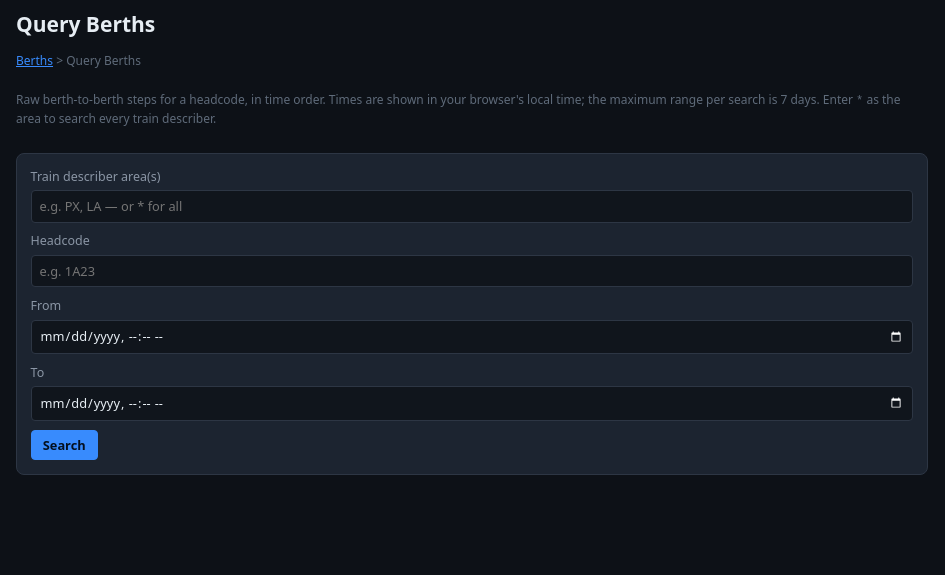
it: BerthQueryPage › searches with the entered comma-separated area(s) and headcode
Type "px, la" into the field labelled "Train describer area(s)" at (472, 207), box [31, 190, 913, 223]
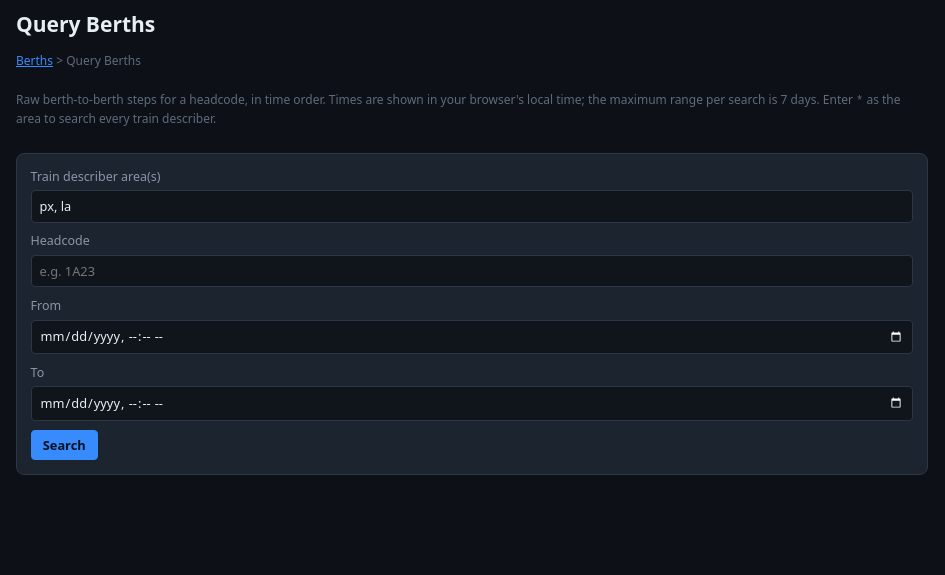
Type "1a23" into the field with placeholder "e.g. 1A23" at (472, 271), box [31, 255, 913, 288]
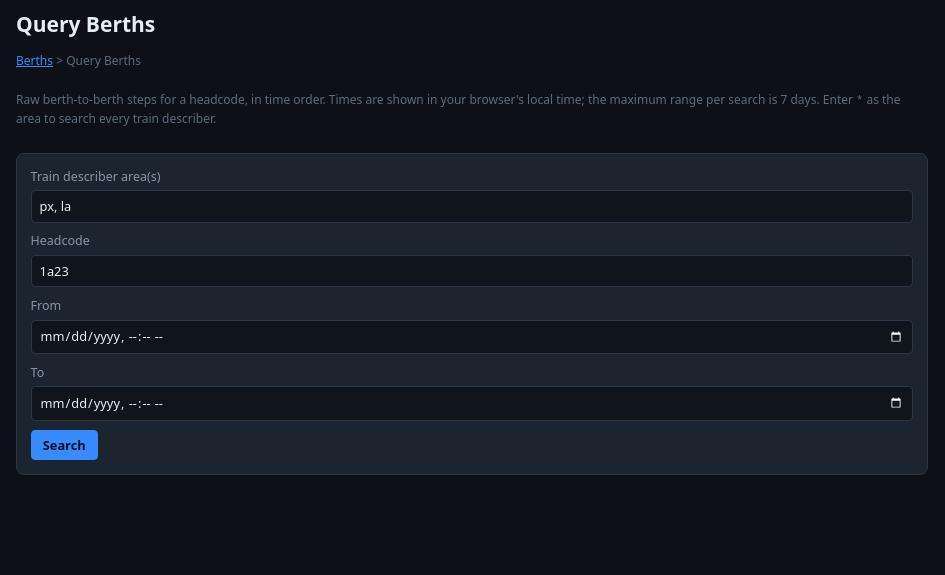
Click the button "Search" at (64, 445), box [31, 430, 98, 460]
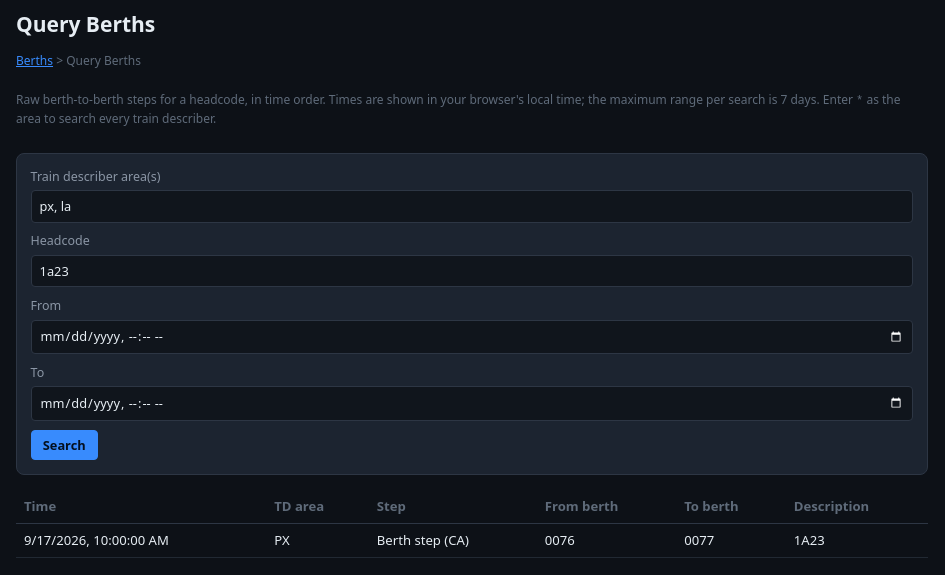
Now the text "0076" is shown, box [537, 524, 676, 557]
Now the text "0077" is shown, box [676, 524, 786, 557]
Now the cell "PX" is shown, box [266, 524, 369, 557]
